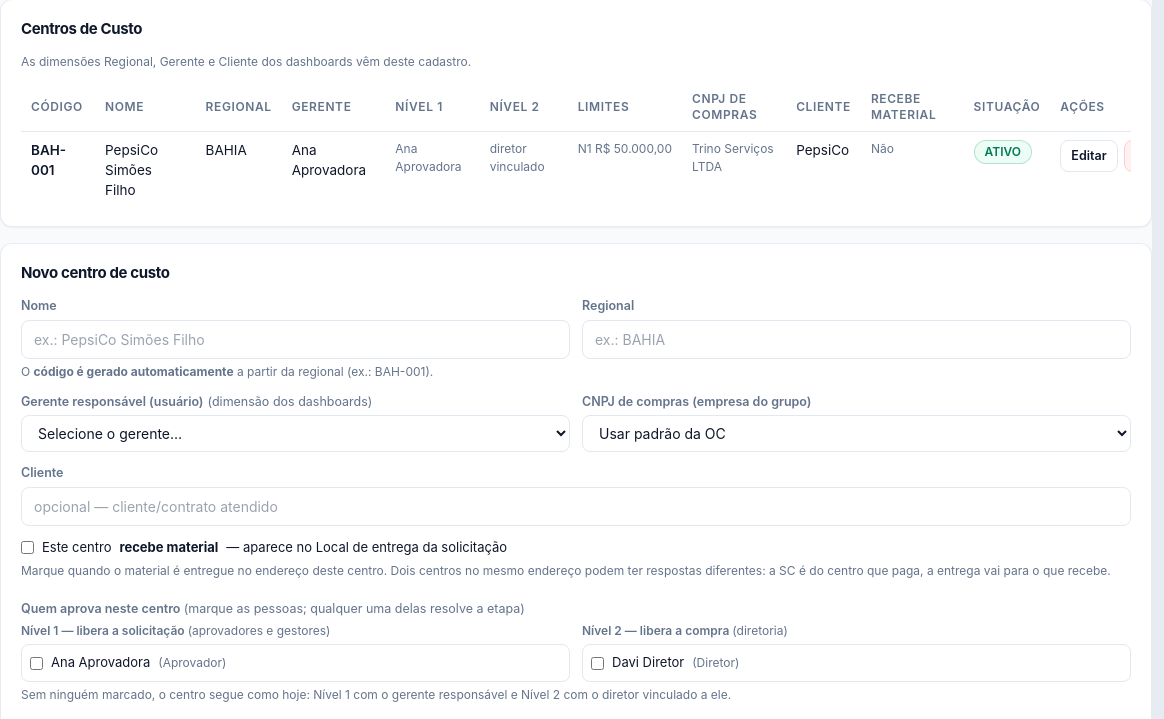
<CentrosCusto /> › editar carrega as alçadas marcadas do centro
The width and height of the screenshot is (1164, 719).
Expected: the table with test id "tabela-centros-custo" is shown, [21,82,1131,208]
Step 1. Click the button "Editar" → (1089, 156), box [1060,140,1118,172]
(page scrolled)
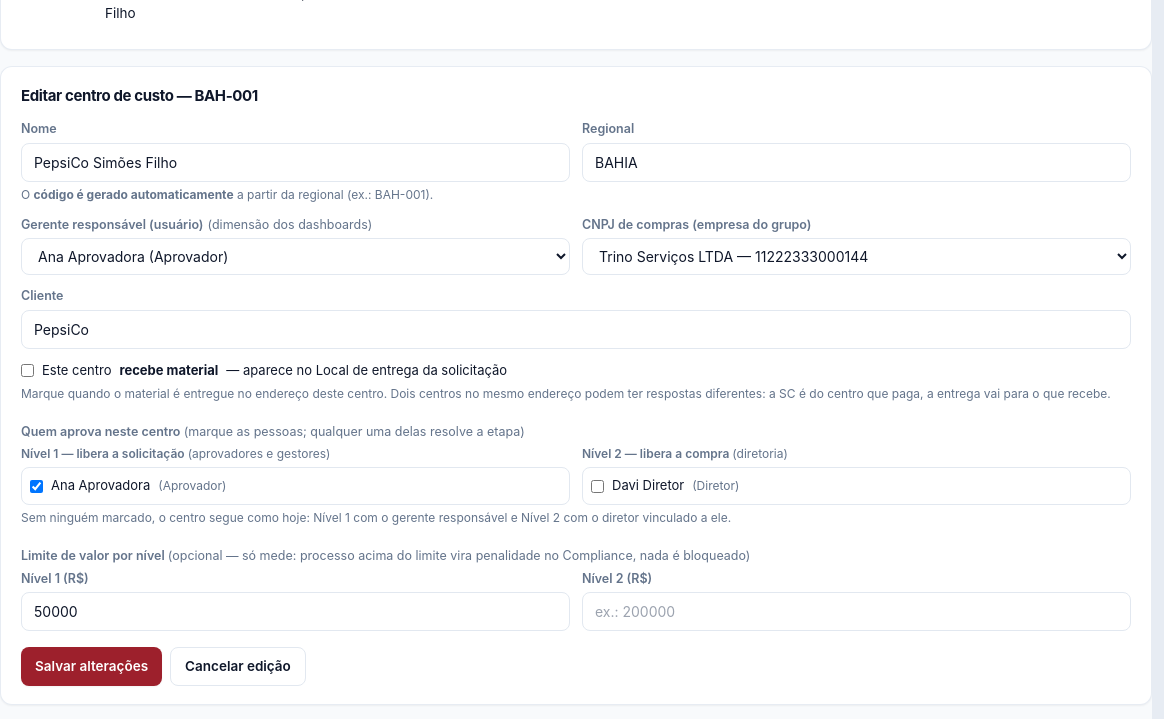
Expected: the heading "Editar centro de custo — BAH-001" is shown, [21,85,258,108]
Expected: the checkbox labelled "Ana Aprovadora (Aprovador)" is checked, [30,480,43,492]
Expected: the number field labelled "Nível 1 (R$)" holds "50000", [21,592,570,631]
